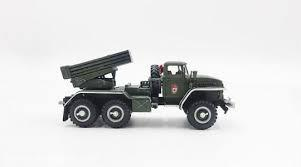MIL_SAM_TEL: (59, 49, 231, 129)
